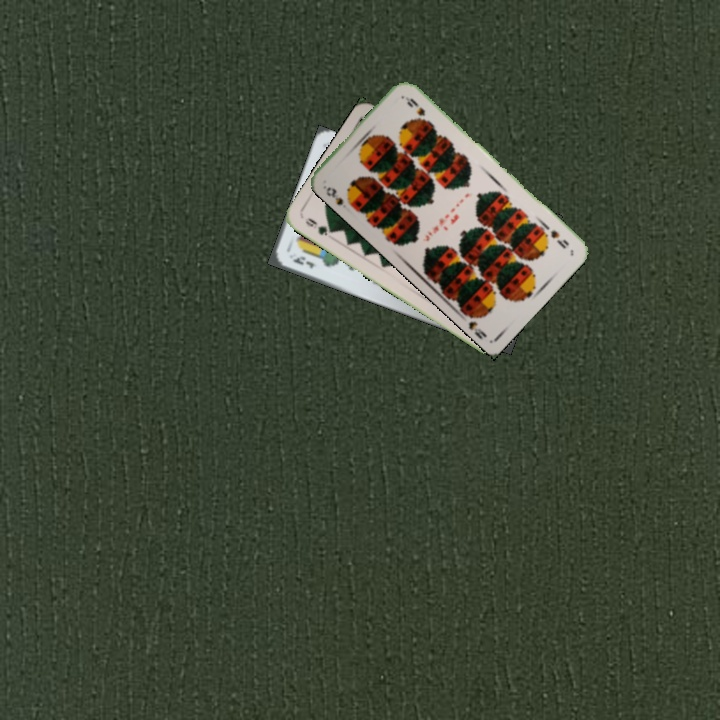EK: (288, 252, 317, 271)
G9: (301, 214, 338, 238)
S9: (539, 221, 572, 251), (322, 183, 357, 210)
